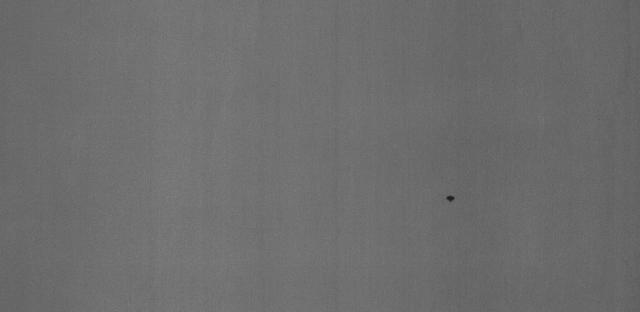inclusion: (444, 191, 456, 205)
